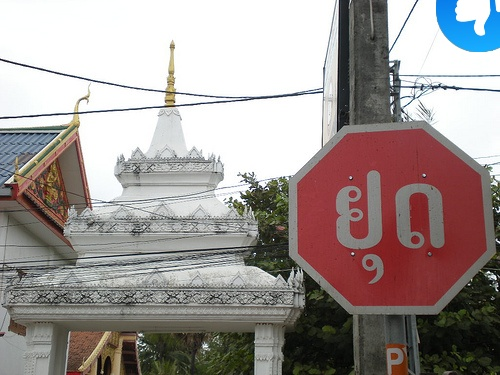like: (436, 0, 500, 52)
